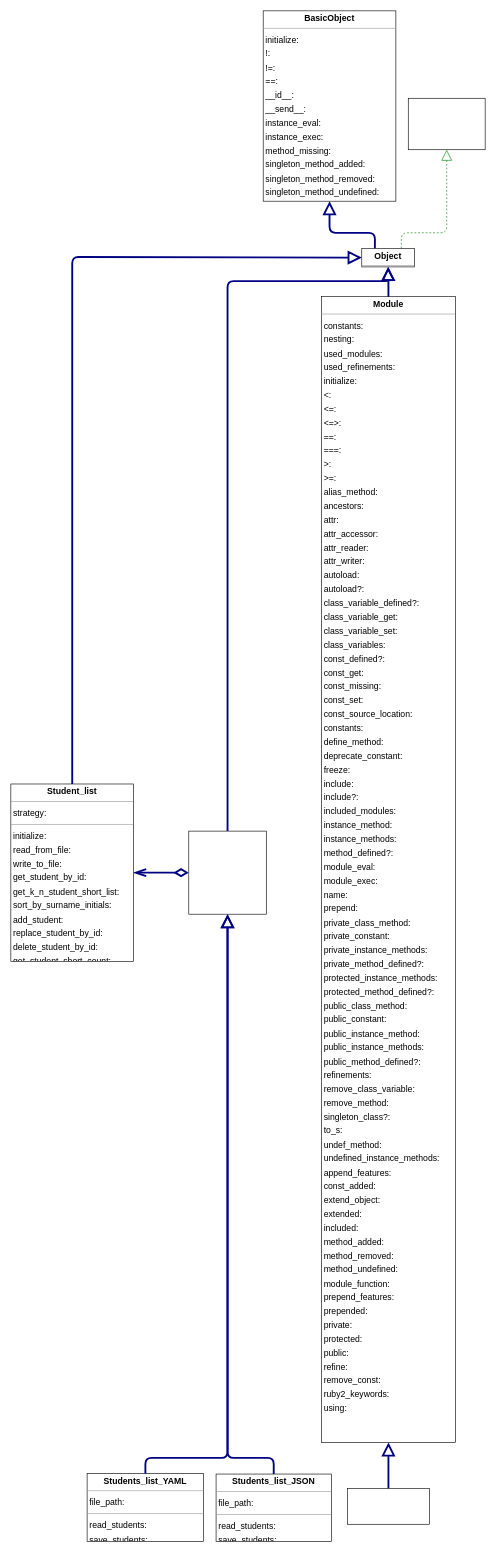
This 496x1555 diagram has some shape labels left out. Here are the shapes that lost their labels. From the top down, the centre of each, then its label:
At point (446, 124): "Kernel pretty_inspect: pp:".
At point (227, 872): "Strategy file_path: initialize: read_students: save_students:".
At point (388, 1506): "Class json_creatable?:".
